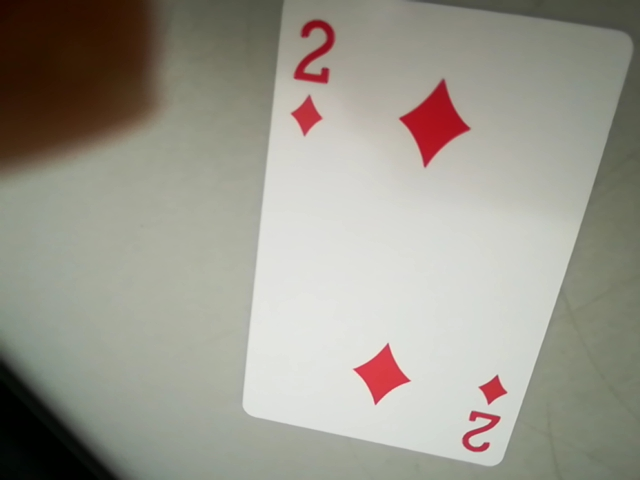fk 2: (276, 9, 340, 143), (457, 378, 509, 458)
